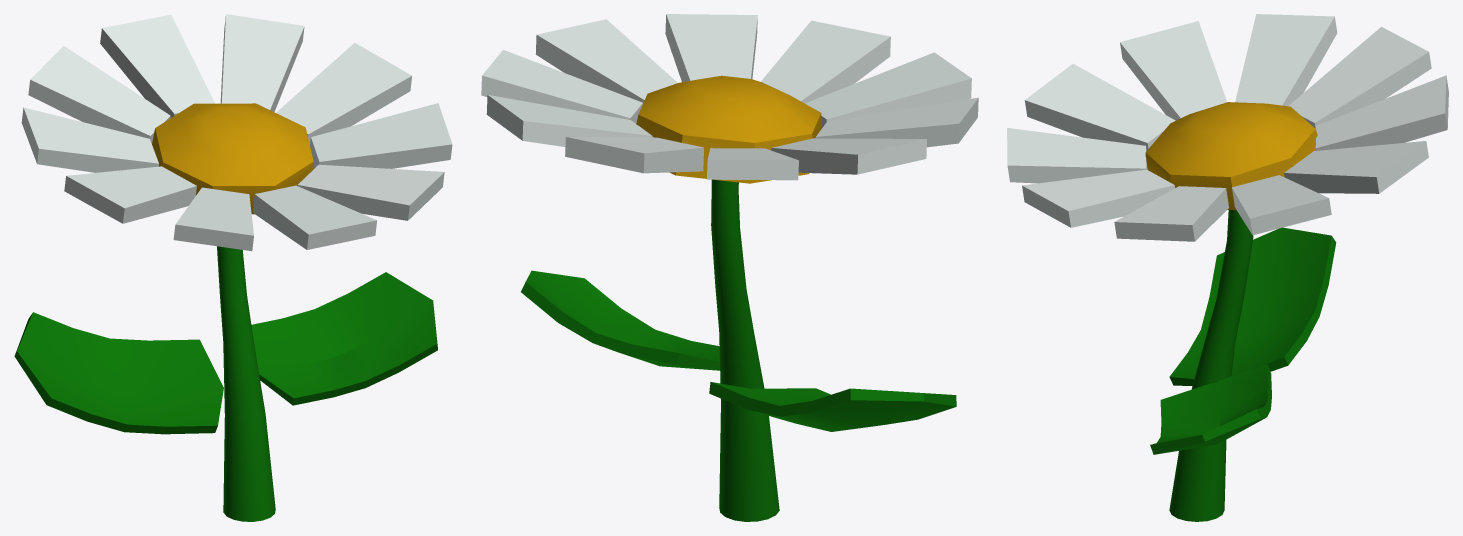
The model's file is Flower_2.fbx.
The picture shows the model from 3 angles, left to right: view 1: azimuth 30°, elevation 25°; view 2: azimuth 150°, elevation 25°; view 3: azimuth 270°, elevation 25°; orthographic projection. The views are drawn at different scales.
Visible parts, largest first — view 1: Cylinder.001; view 2: Cylinder.001; view 3: Cylinder.001.
Part boxes in pixels (x1,y1,x2,y2): Cylinder.001: (14, 14, 452, 521); Cylinder.001: (481, 14, 978, 521); Cylinder.001: (1007, 14, 1448, 521).
Size of the model in its own units: 163 by 165 by 157.
